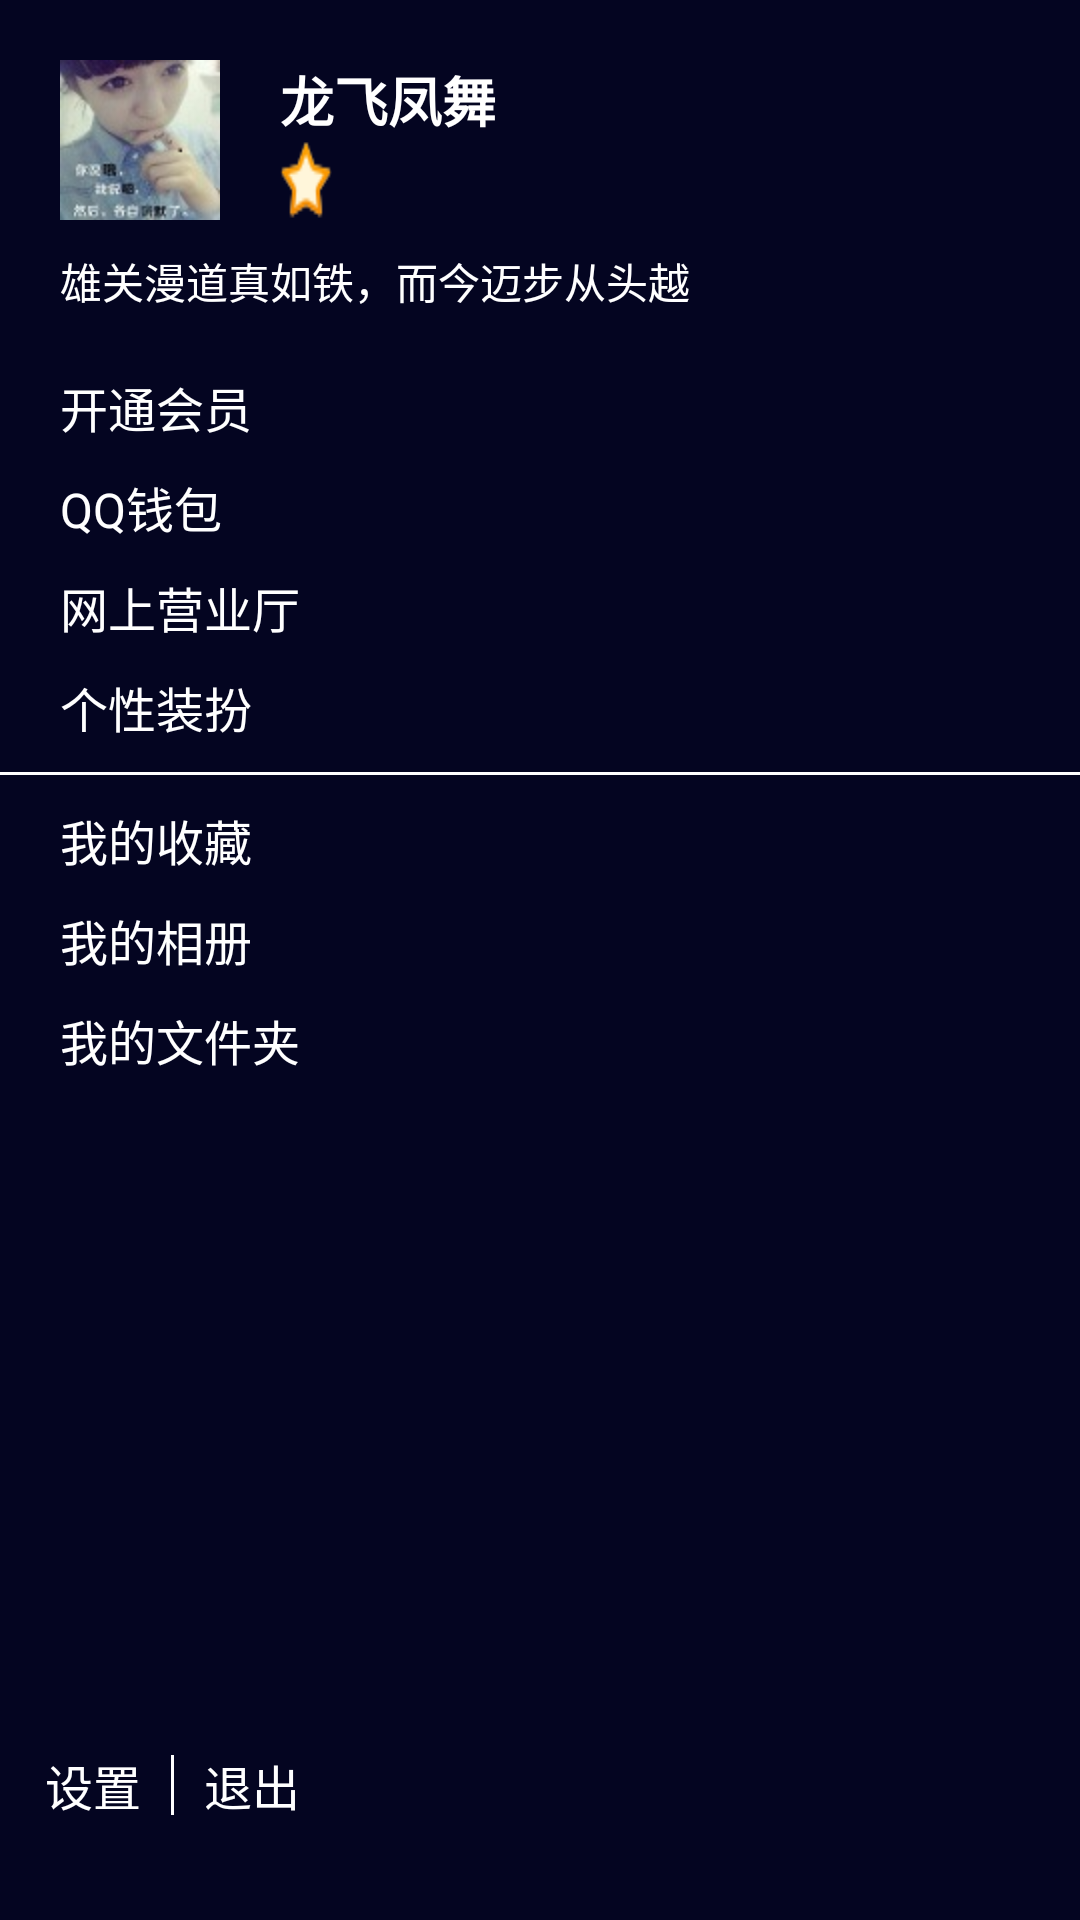

Named icons in this screenshot (1080x1920) and their centers, (x,y):
star: (306,180)
